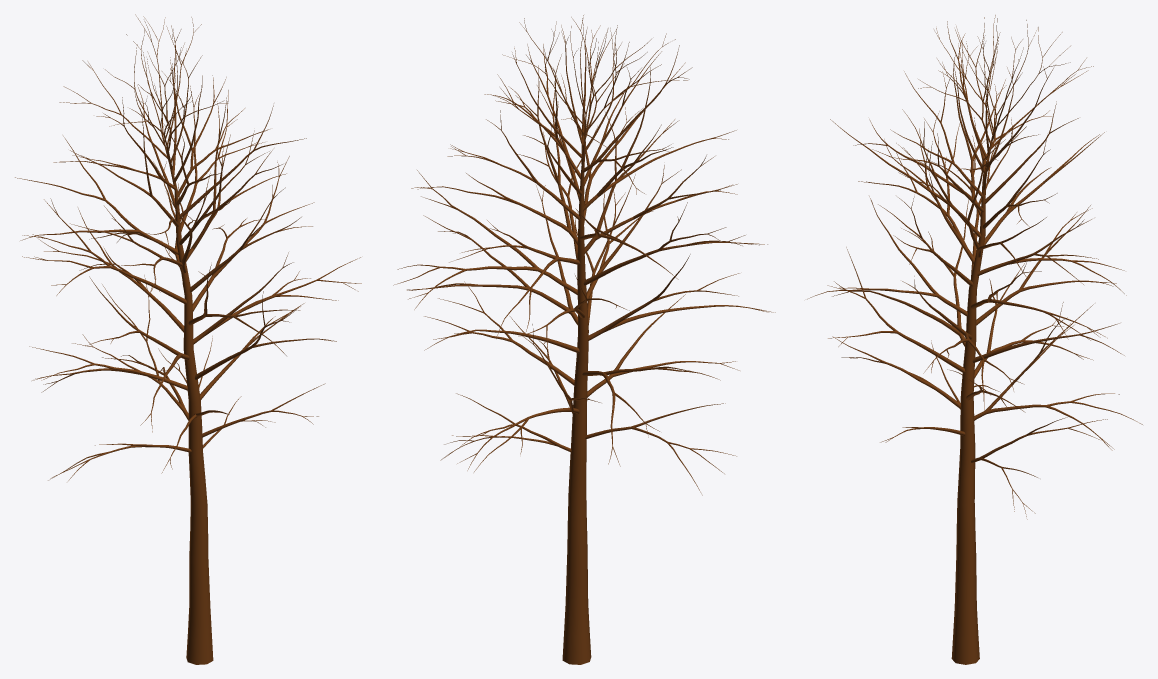
Rendered from BlackTree1.fbx.
The picture shows the model from 3 angles, left to right: view 1: azimuth 30°, elevation 25°; view 2: azimuth 150°, elevation 25°; view 3: azimuth 270°, elevation 25°; orthographic projection. The views are drawn at different scales.
Parts seen in each view (by area): view 1: tree; view 2: tree; view 3: tree.
Part boxes in pixels (x1=…): tree: x1=15, y1=14, x2=361, y2=664; tree: x1=393, y1=15, x2=775, y2=664; tree: x1=807, y1=15, x2=1142, y2=664.
Bounding box in the file's own units: 858 × 1589 × 779.
